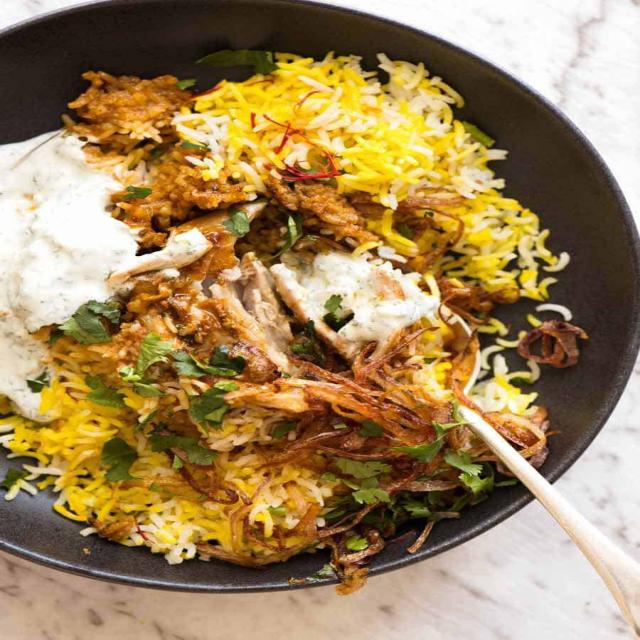chicken biryani: (59, 81, 523, 544)
